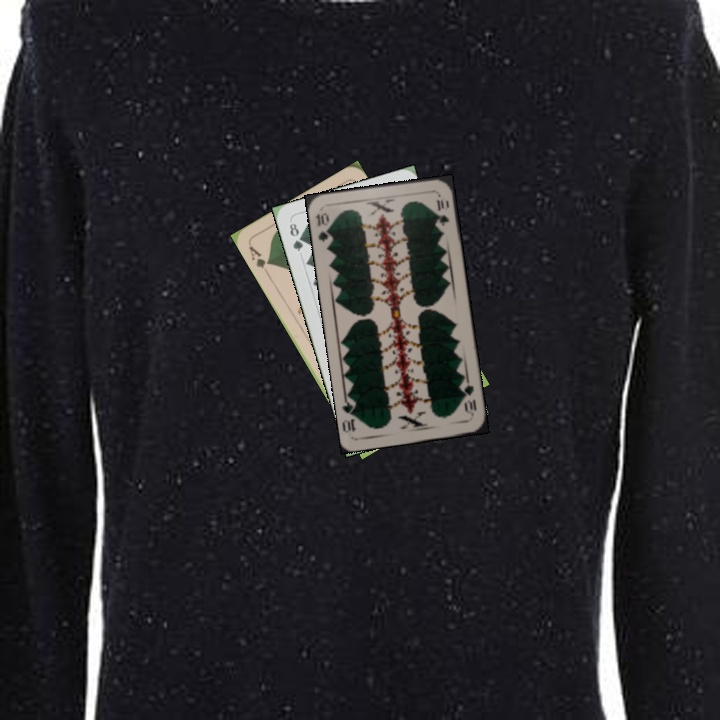G10: (458, 377, 479, 418), (312, 209, 334, 244)
G8: (285, 217, 306, 254)
GA: (244, 242, 273, 277)
